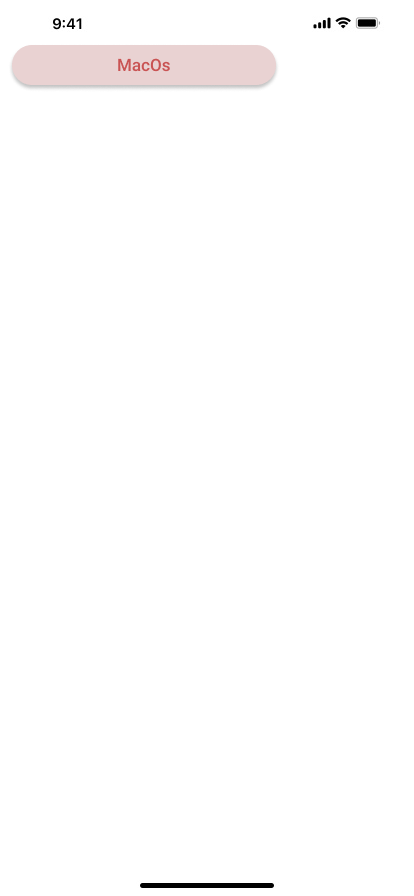Buttons: (8, 44, 284, 92)
Home Indicator: (0, 862, 414, 896)
Status Bar: (0, 0, 414, 44)
